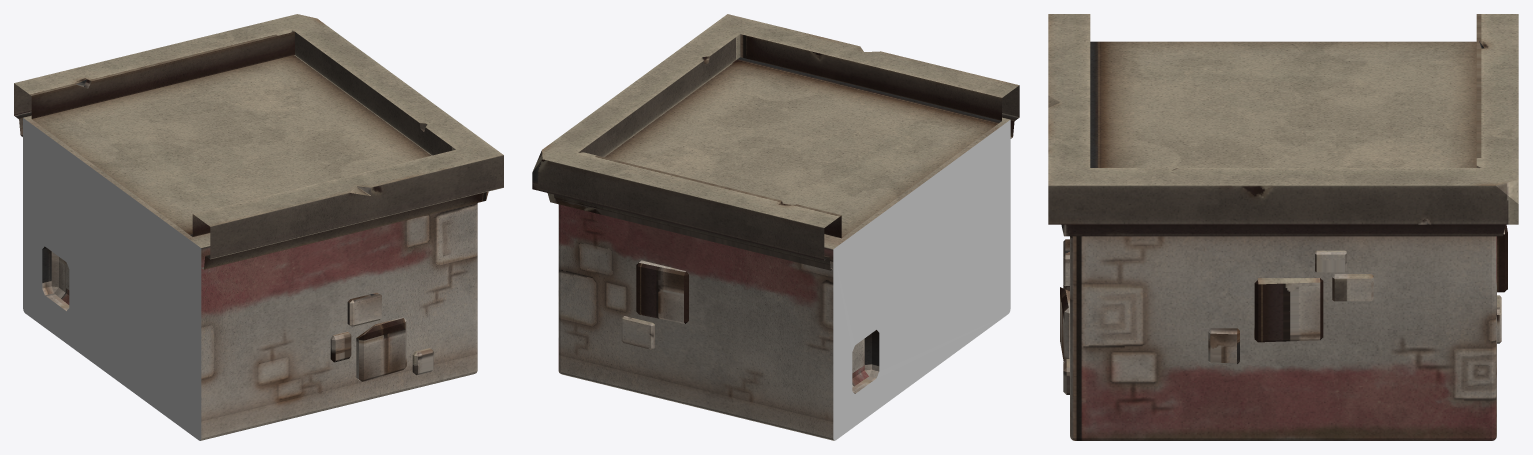
The model's file is BaseUpperEnd.dae.
3 views of the same model, side by side, from view 1: azimuth 30°, elevation 25°; view 2: azimuth 150°, elevation 25°; view 3: azimuth 270°, elevation 25° (orthographic). The views are drawn at different scales.
Visible parts, largest first — view 1: Cube_044; view 2: Cube_044; view 3: Cube_044.
Boxes of the visible parts, x1,y1,x2,y2 form: Cube_044: [14, 14, 503, 440]; Cube_044: [532, 14, 1019, 440]; Cube_044: [1048, 14, 1518, 440].
Bounding box in the file's own units: 3.95 × 4.57 × 2.85.
1 material, 1 textured.
